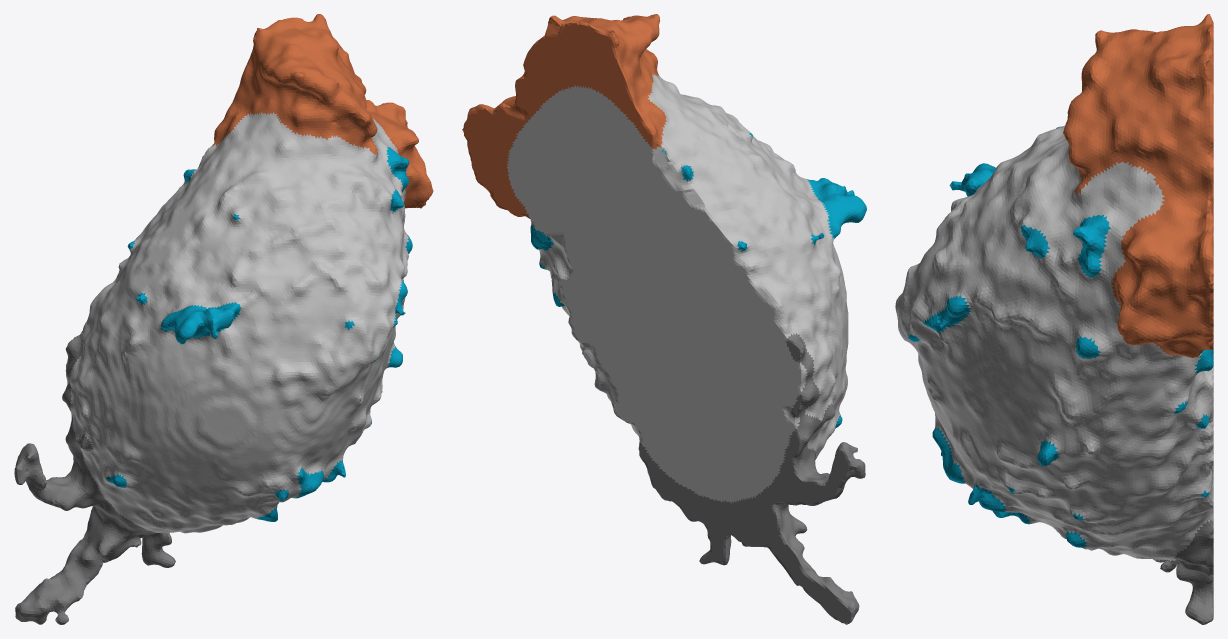
3 views of the same model, side by side, from view 1: azimuth 30°, elevation 25°; view 2: azimuth 150°, elevation 25°; view 3: azimuth 270°, elevation 25° (orthographic). The views are drawn at different scales.
Bounding box in the file's own units: 127 × 165 × 68.
